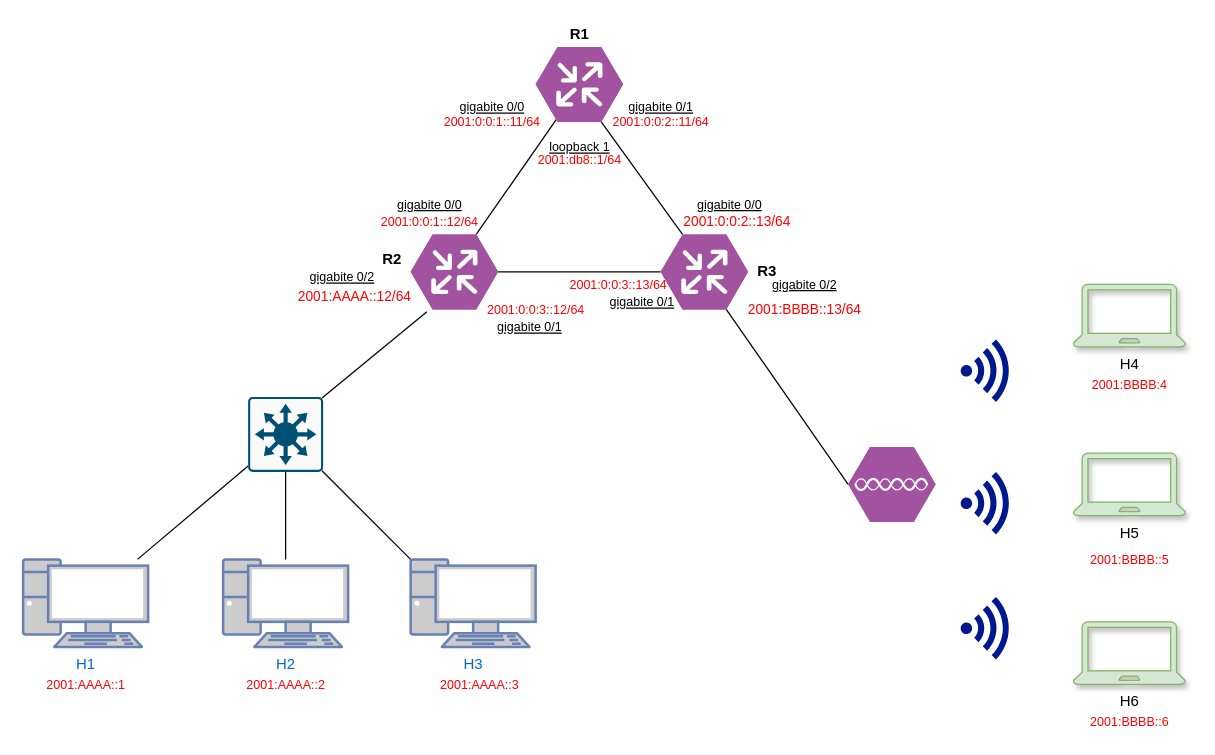
This 1215x755 diagram has some shape labels left out. Each missing label, with the centre of its shape:
AccessPoint: point (891, 484)
sw: point (285, 434)
